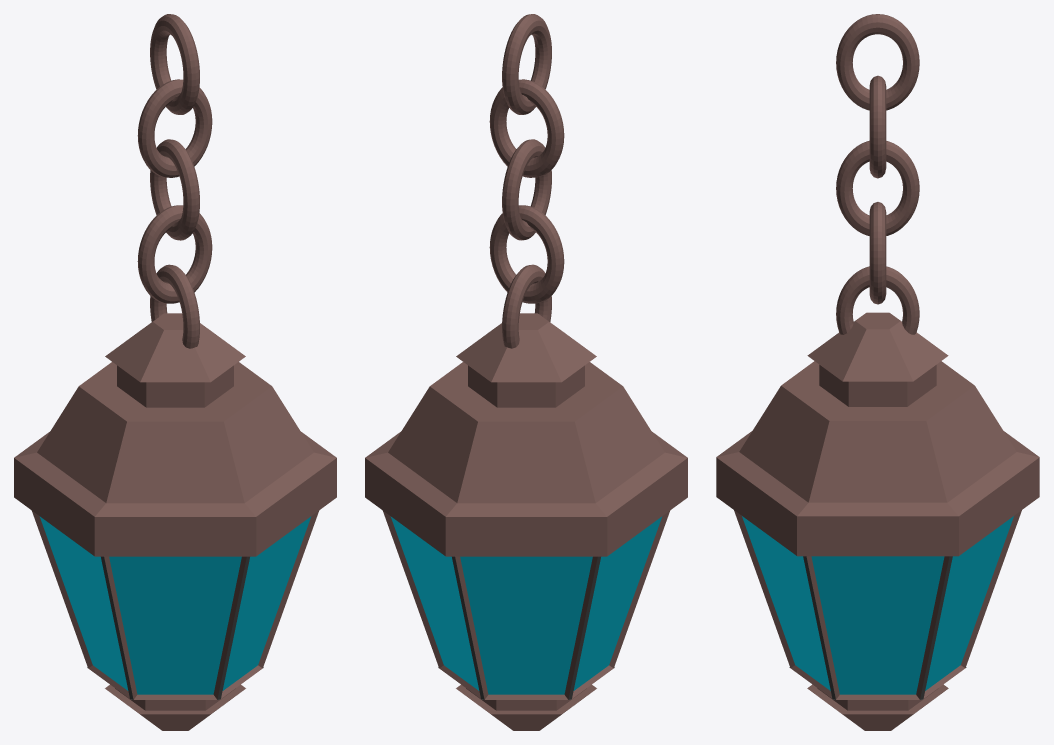
File: the_light.glb
The picture shows the model from 3 angles, left to right: view 1: azimuth 30°, elevation 25°; view 2: azimuth 150°, elevation 25°; view 3: azimuth 270°, elevation 25°; orthographic projection.
Visible parts, largest first — view 1: Cylinder.005; view 2: Cylinder.005; view 3: Cylinder.005.
Boxes of the visible parts, x1,y1,x2,y2 form: Cylinder.005: (14,14,336,730); Cylinder.005: (365,14,687,730); Cylinder.005: (716,14,1039,730).
Size of the model in its own units: 1.73 by 4.82 by 2.
